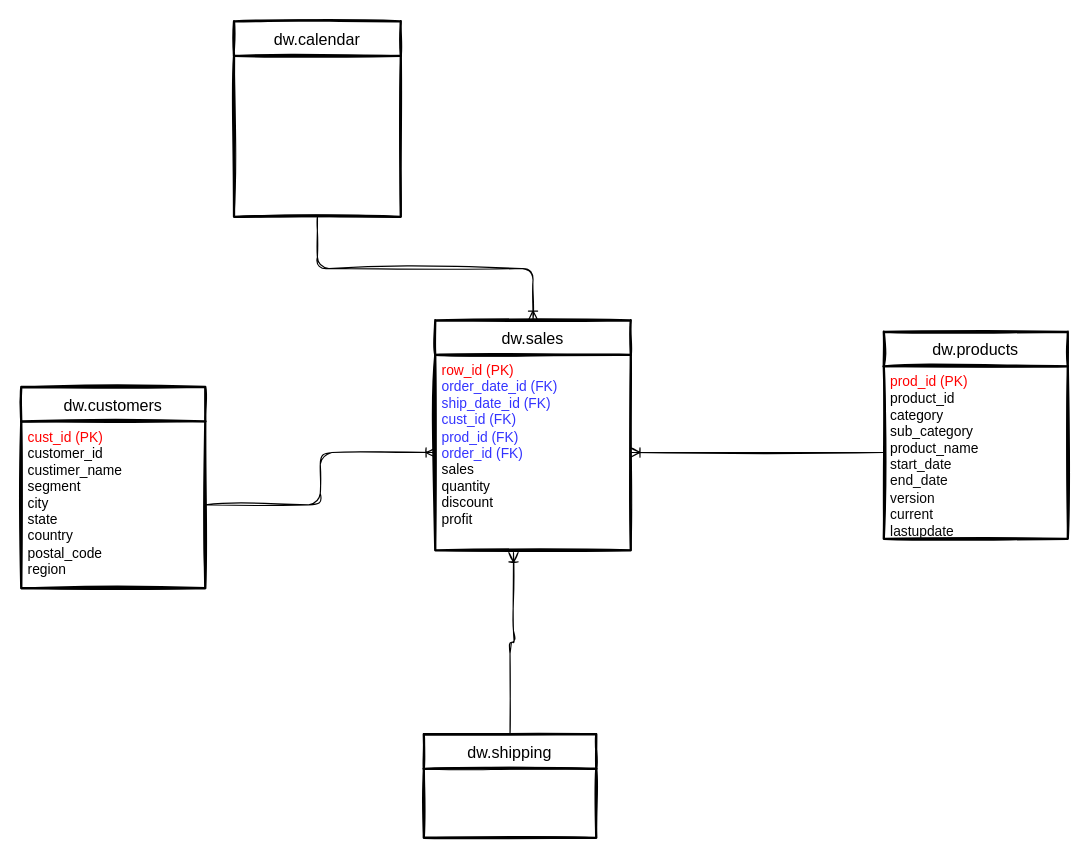
Image size: 1088x858. Some labels were removed from this diagram. The centre of each missing label's shape, as x and y in pixels:
"date_id (PK) year quarter month week date weekday leap" belongs at (x=317, y=136).
"order_id (PK) ship_mode returned" belongs at (x=509, y=803).
